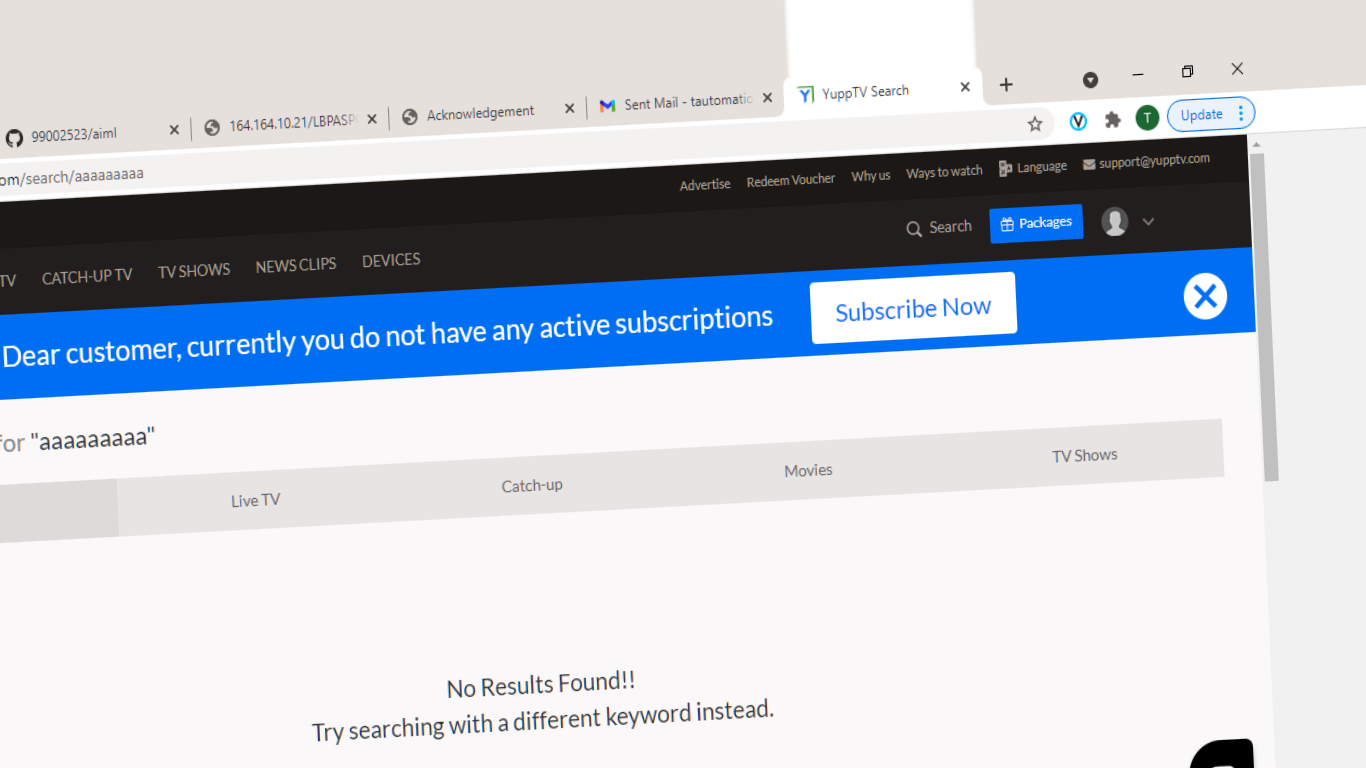noresultsfound: (1, 425, 168, 460)
profileicon: (1092, 198, 1160, 251)
searchicon: (896, 211, 979, 245)
